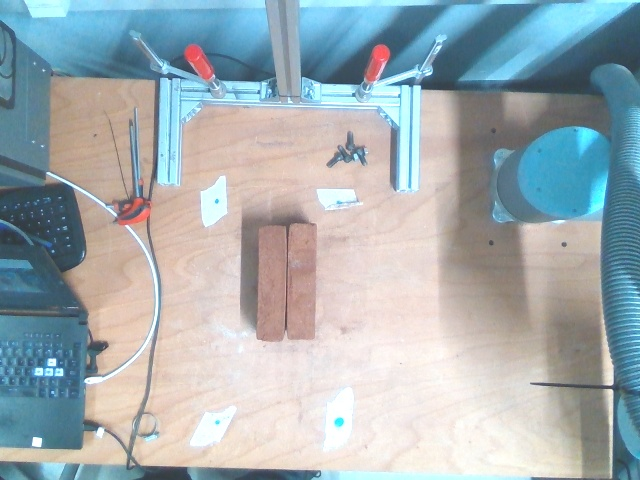brick-side: (288, 224, 315, 336), (258, 228, 285, 340)
